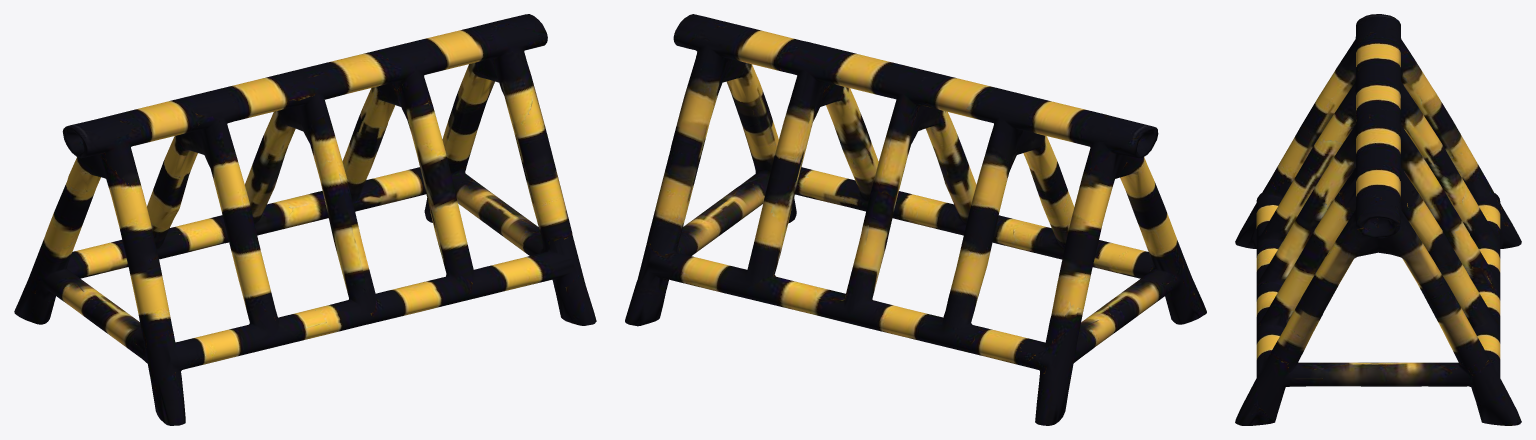
Rendered from barricade.glb.
The picture shows the model from 3 angles, left to right: view 1: azimuth 30°, elevation 25°; view 2: azimuth 150°, elevation 25°; view 3: azimuth 270°, elevation 25°; orthographic projection. The views are drawn at different scales.
Size of the model in its own units: 1.9 by 0.962 by 1.15.
Materials: 1 (1 with a texture image).
